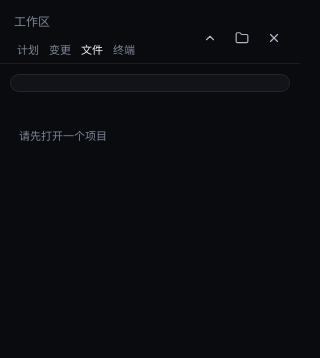
Test: FileSidebar plan editor › keeps build mode free of editable plan controls
Click the tab "计划" at (28, 51), box [14,40,42,62]
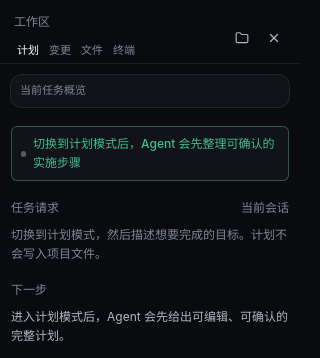
Check: the text "下一步" is shown, box [11,282,47,297]
